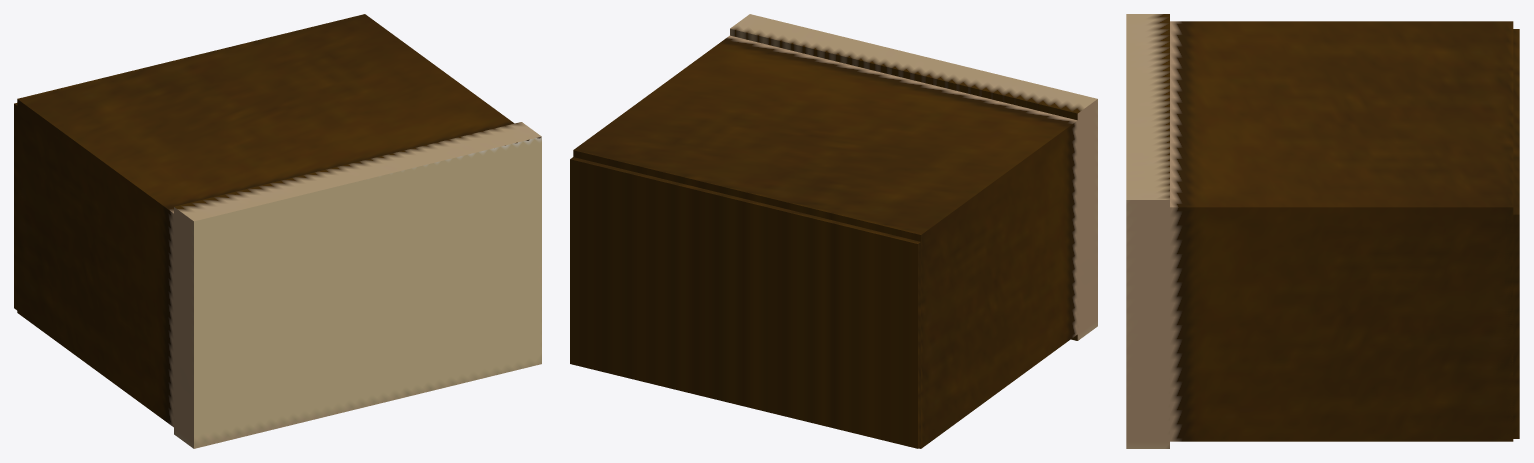
Rendered from pz_counter_modern_floor.obj.
3 views of the same model, side by side, from view 1: azimuth 30°, elevation 25°; view 2: azimuth 150°, elevation 25°; view 3: azimuth 270°, elevation 25° (orthographic). The views are drawn at different scales.
Size of the model in its own units: 1 by 0.6266 by 0.895.
1 material, 1 textured.
